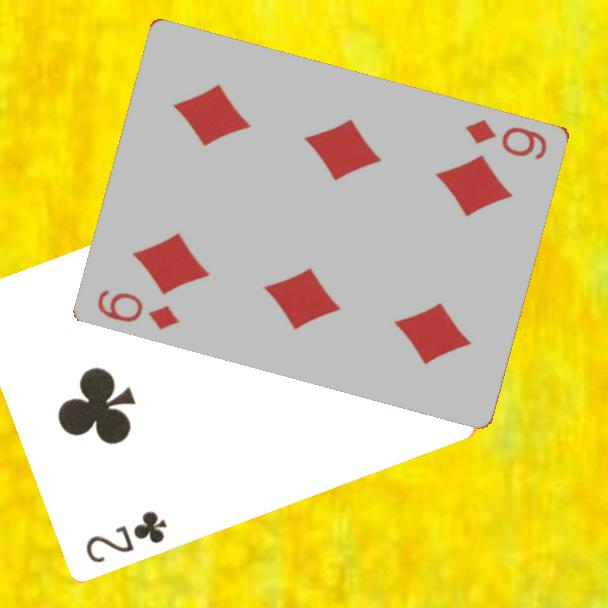c02: (82, 506, 171, 566)
d06: (94, 285, 183, 333), (462, 115, 551, 162)
